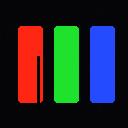4 line_v: (37, 56, 39, 106)
